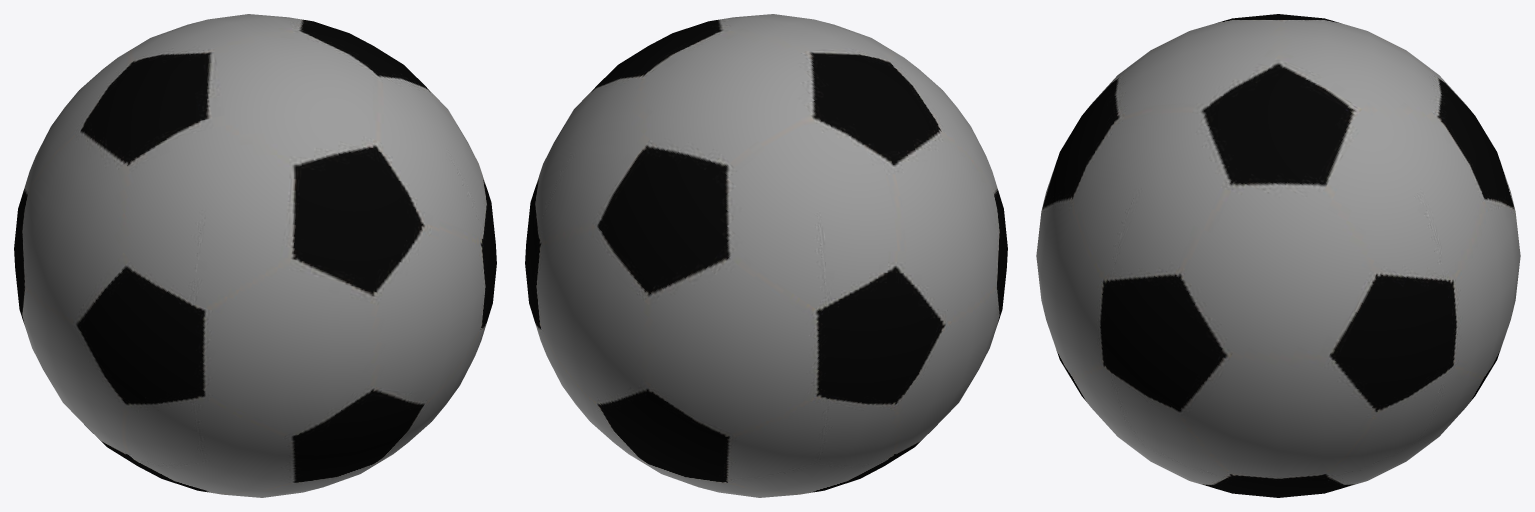
The model's file is soccer.glb.
3 views of the same model, side by side, from view 1: azimuth 30°, elevation 25°; view 2: azimuth 150°, elevation 25°; view 3: azimuth 270°, elevation 25° (orthographic).
Parts seen in each view (by area): view 1: soccer; view 2: soccer; view 3: soccer.
Boxes of the visible parts, x1=… form: soccer: x1=14, y1=14, x2=496, y2=497; soccer: x1=525, y1=14, x2=1007, y2=497; soccer: x1=1036, y1=14, x2=1520, y2=497.
Bounding box in the file's own units: 0.2196 × 0.2196 × 0.2196.
Materials: 1 (1 with a texture image).
